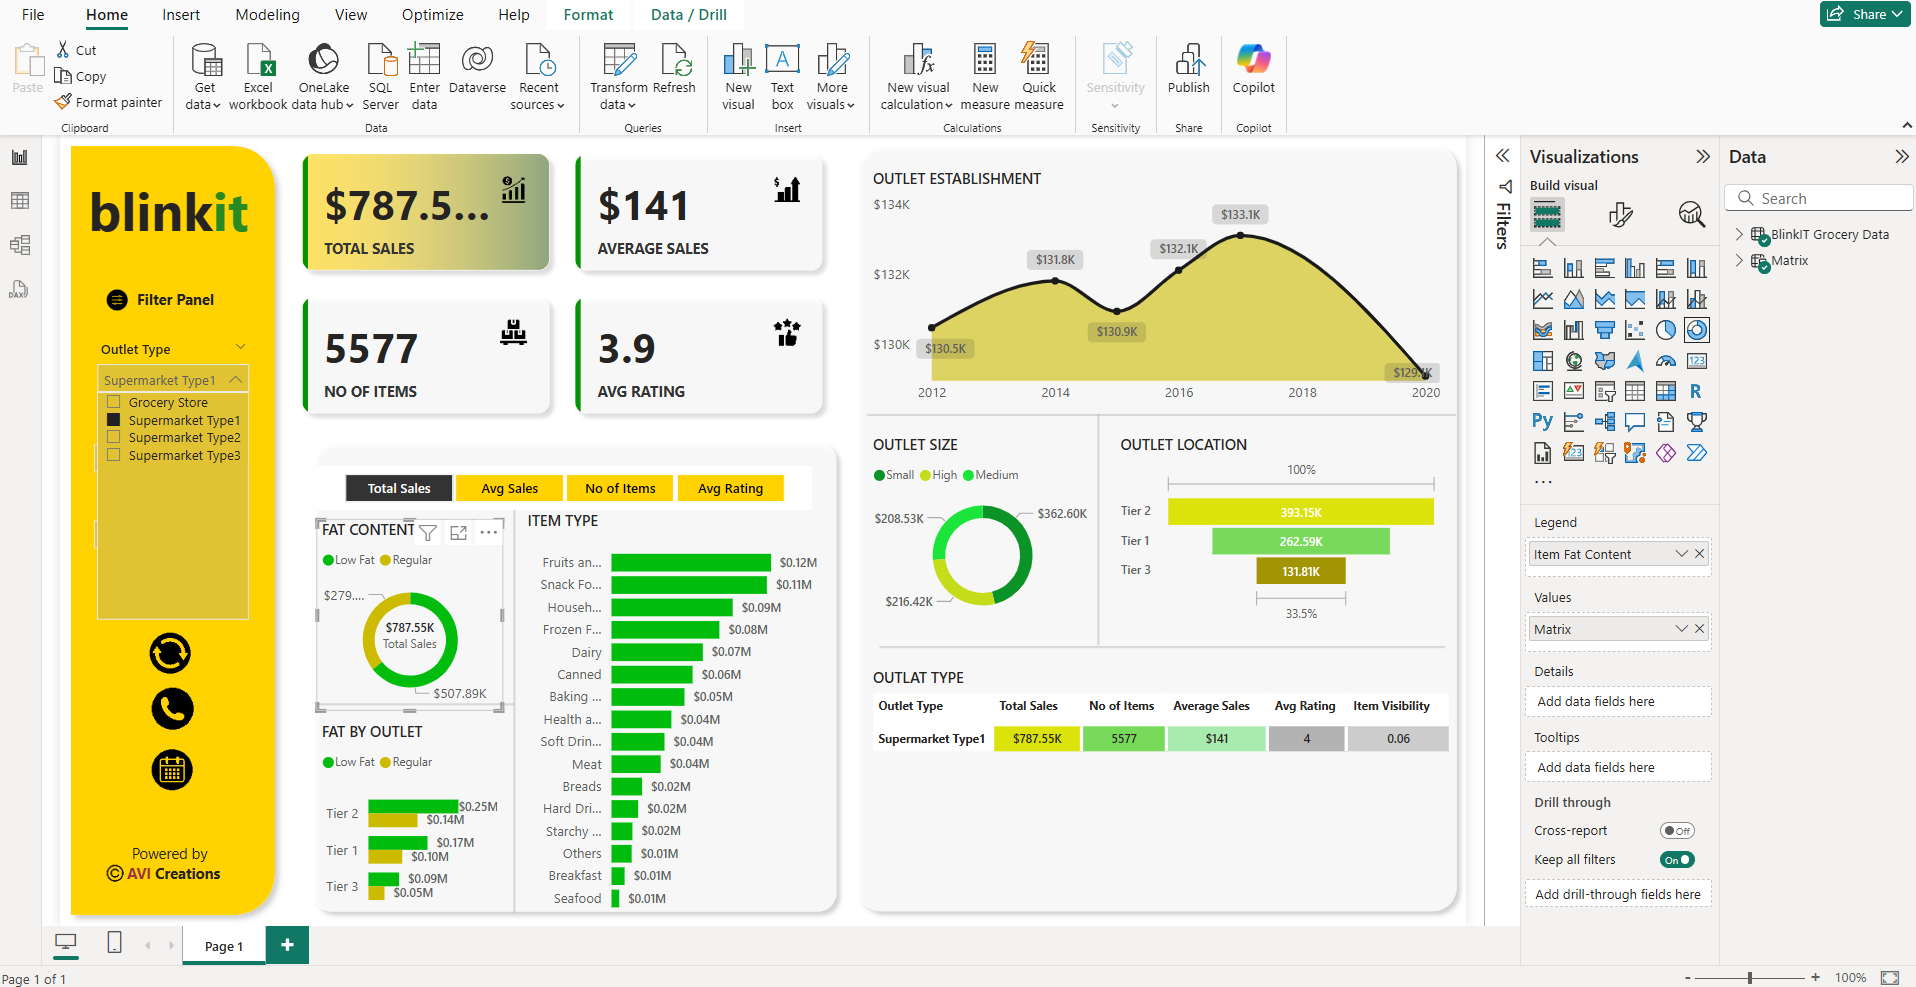

This screenshot's page, from the dashboard's own definition file:
{"tool":"powerbi","page":{"name":"Page 1","canvas":[1280,720],"ordinal":0},"visuals":[{"type":"shape","box":[0,0,205.6,720],"z":0},{"type":"textbox","box":[21,30,165.2,75.1],"z":1000},{"type":"cardVisual","fields":{"Data":["BlinkIT Grocery Data.Total Sales","BlinkIT Grocery Data.Average Sales","BlinkIT Grocery Data.No of Items","BlinkIT Grocery Data.Avg Rating"]},"box":[205.2,0,509.6,270.3],"z":2000},{"type":"shape","box":[221.1,270,494.4,445.6],"z":3000},{"type":"donutChart","title":"FAT CONTENT","fields":{"Y":["BlinkIT Grocery Data.Total Sales"],"Category":["BlinkIT Grocery Data.Item Fat Content"]},"box":[233.3,349.4,170.2,175.2],"z":4000},{"type":"slicer","fields":{"Values":["Matrix.Matrix"]},"box":[233.3,301.3,450.5,40],"z":5000},{"type":"cardVisual","fields":{"Data":["BlinkIT Grocery Data.Total Sales"]},"box":[264.4,416.7,108.9,76.7],"z":6000},{"type":"clusteredBarChart","title":"FAT BY OUTLET","fields":{"Y":["BlinkIT Grocery Data.Total Sales"],"Category":["BlinkIT Grocery Data.Outlet Location Type"],"Series":["BlinkIT Grocery Data.Item Fat Content"]},"box":[233.3,533.3,170,182.2],"z":7000},{"type":"shape","box":[233.3,502.2,180,31.1],"z":8000},{"type":"shape","box":[407.8,341.1,12.2,366.7],"z":9000},{"type":"clusteredBarChart","title":"ITEM TYPE","fields":{"Y":["BlinkIT Grocery Data.Total Sales"],"Category":["BlinkIT Grocery Data.Item Type"]},"box":[420,341.1,273.3,374.4],"z":10000},{"type":"shape","box":[715.6,0,564.4,715.6],"z":11000},{"type":"lineChart","title":"OUTLET ESTABLISHMENT","fields":{"Category":["BlinkIT Grocery Data.Outlet Establishment Year"],"Y":["BlinkIT Grocery Data.Total Sales"]},"box":[734.4,30,525.6,222.2],"z":12000},{"type":"shape","box":[734.4,238.9,535.6,31.1],"z":13000},{"type":"donutChart","title":"OUTLET SIZE","fields":{"Y":["BlinkIT Grocery Data.Total Sales"],"Category":["BlinkIT Grocery Data.Outlet Size"]},"box":[734.4,272.3,208.9,175.6],"z":14000},{"type":"shape","box":[930,254.4,30,210],"z":15000},{"type":"funnel","title":"OUTLET LOCATION","fields":{"Y":["Sum(BlinkIT Grocery Data.Sales)"],"Category":["BlinkIT Grocery Data.Outlet Location Type"]},"box":[960,272.3,300,175.6],"z":16000},{"type":"pivotTable","title":"OUTLAT TYPE","fields":{"Rows":["BlinkIT Grocery Data.Outlet Type"],"Values":["BlinkIT Grocery Data.Total Sales","BlinkIT Grocery Data.No of Items","BlinkIT Grocery Data.Average Sales","BlinkIT Grocery Data.Avg Rating","Avg(BlinkIT Grocery Data.Item Visibility)"]},"box":[734.4,484.4,535.5,190],"z":17000},{"type":"shape","box":[745.6,450,514.4,31.1],"z":18000},{"type":"slicer","fields":{"Values":["BlinkIT Grocery Data.Outlet Size"]},"box":[21.1,254.4,157.8,73.3],"z":19000},{"type":"slicer","fields":{"Values":["BlinkIT Grocery Data.Item Type"]},"box":[21.1,323.3,157.8,73.3],"z":20000},{"type":"slicer","fields":{"Values":["BlinkIT Grocery Data.Outlet Type"]},"box":[24.4,181.1,157.8,73.3],"z":21000},{"type":"textbox","box":[65.6,135.6,101.1,37.8],"z":22000},{"type":"image","box":[36.7,135.6,30,30],"z":23000},{"type":"image","box":[75.6,396.7,48.9,48.9],"z":24000},{"type":"image","box":[66.7,447.8,66.7,47.8],"z":25000},{"type":"image","box":[76.7,497.8,50,48.9],"z":26000},{"type":"image","box":[76.7,553.3,50,47.8],"z":27000},{"type":"textbox","box":[44.4,638.9,111.1,50],"z":28000},{"type":"image","box":[36.7,658.9,25.6,25.6],"z":29000}]}

Visuals, with their boxes on the page's 1280x720 design canvas (x1, y1, x2, y2). These are canvas units, not pixel positions in the 1916x987 screenshot, which may show the page scaled, cropped or inside an application window:
shape: crop(0, 0, 206, 720)
textbox: crop(21, 30, 186, 105)
cardVisual - BlinkIT Grocery Data.Total Sales x BlinkIT Grocery Data.Average Sales: crop(205, 0, 715, 270)
shape: crop(221, 270, 716, 716)
"FAT CONTENT" donutChart: crop(233, 349, 404, 525)
slicer - Matrix.Matrix: crop(233, 301, 684, 341)
cardVisual - BlinkIT Grocery Data.Total Sales: crop(264, 417, 373, 493)
"FAT BY OUTLET" clusteredBarChart: crop(233, 533, 403, 716)
shape: crop(233, 502, 413, 533)
shape: crop(408, 341, 420, 708)
"ITEM TYPE" clusteredBarChart: crop(420, 341, 693, 716)
shape: crop(716, 0, 1280, 716)
"OUTLET ESTABLISHMENT" lineChart: crop(734, 30, 1260, 252)
shape: crop(734, 239, 1270, 270)
"OUTLET SIZE" donutChart: crop(734, 272, 943, 448)
shape: crop(930, 254, 960, 464)
"OUTLET LOCATION" funnel: crop(960, 272, 1260, 448)
"OUTLAT TYPE" pivotTable: crop(734, 484, 1270, 674)
shape: crop(746, 450, 1260, 481)
slicer - BlinkIT Grocery Data.Outlet Size: crop(21, 254, 179, 328)
slicer - BlinkIT Grocery Data.Item Type: crop(21, 323, 179, 397)
slicer - BlinkIT Grocery Data.Outlet Type: crop(24, 181, 182, 254)
textbox: crop(66, 136, 167, 173)
image: crop(37, 136, 67, 166)
image: crop(76, 397, 124, 446)
image: crop(67, 448, 133, 496)
image: crop(77, 498, 127, 547)
image: crop(77, 553, 127, 601)
textbox: crop(44, 639, 156, 689)
image: crop(37, 659, 62, 684)
